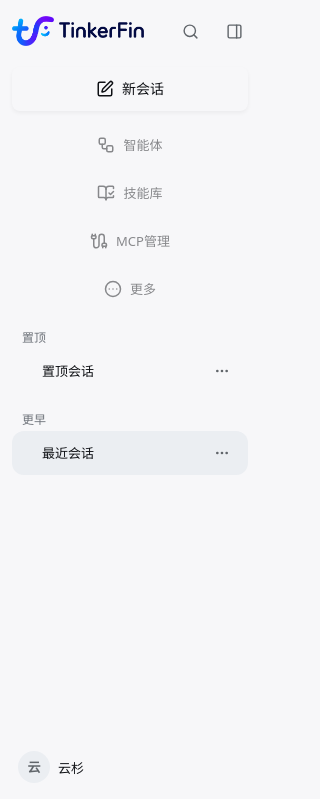
Scenario: Sidebar › 从用户菜单打开设置并把稳定的账户按钮作为焦点恢复目标
This screenshot has width=320, height=799.
Click the button named "打开用户菜单" at (130, 767), box [12,745,248,789]
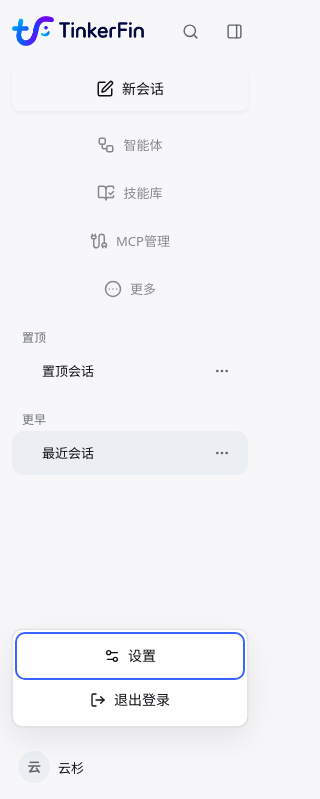
Click the menu item "设置" at (130, 656), box [17,634,243,678]
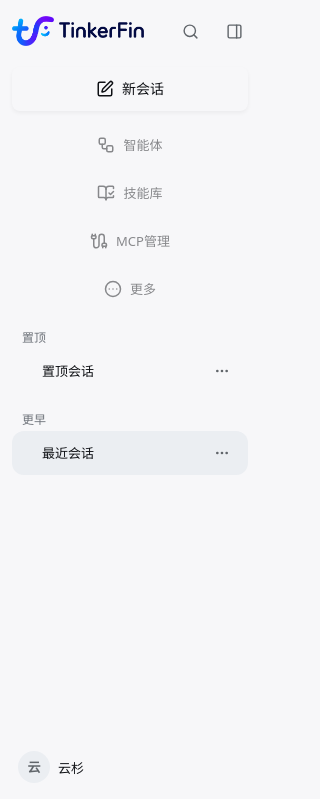
Expected: the menu item "退出登录" is gone
